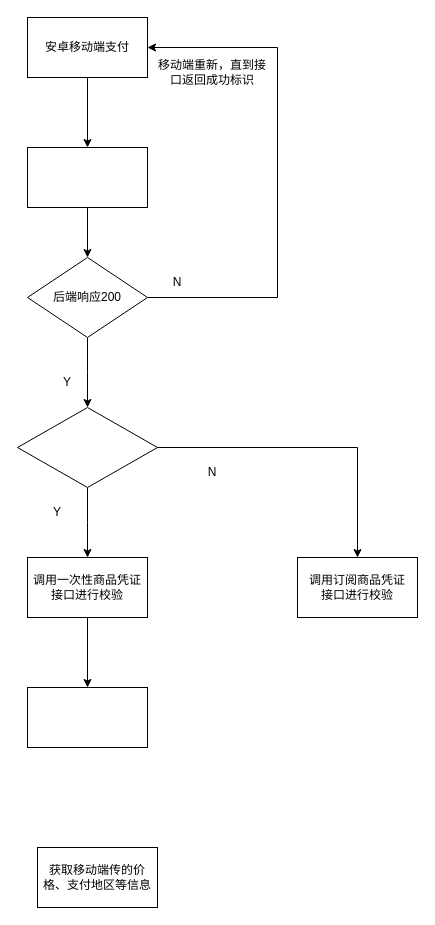
Some shapes in this 435 by 925 pixel diagram are drawn without their labels. Here are the shapes that lost their labels. From the top down, the centre of each, then its label:
At point (87, 177): "请求blessed服务端".
At point (87, 447): "是否是一次性商品".
At point (87, 717): "校验订单是否已支付".
